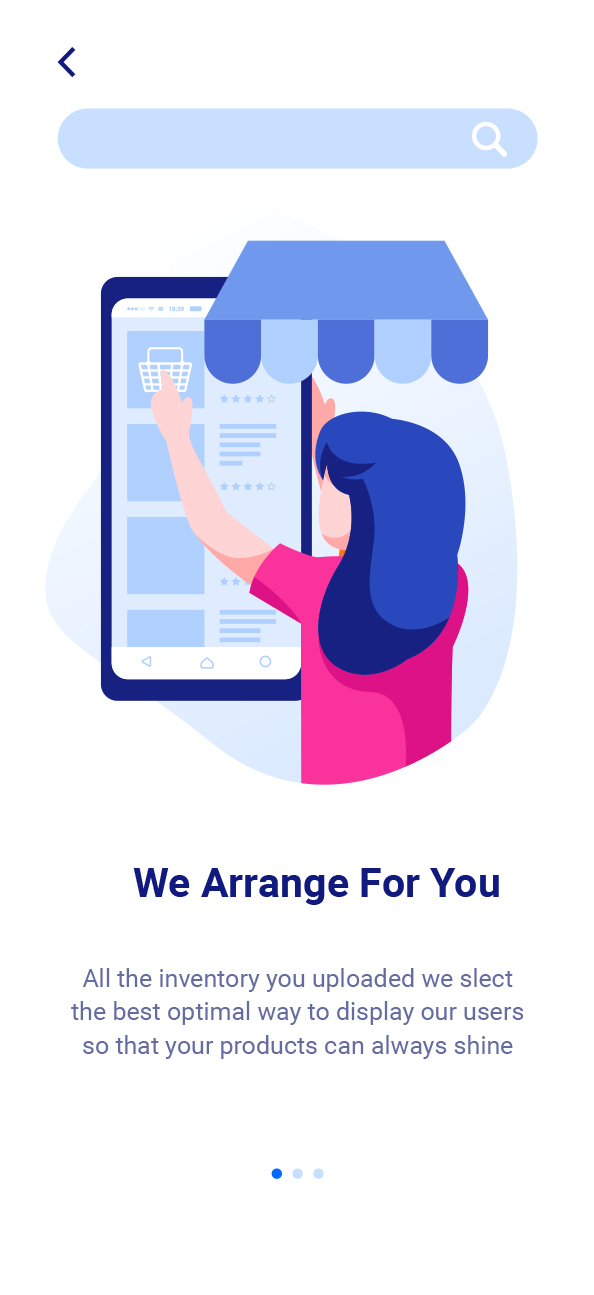EditText: (58, 109, 538, 170)
Icon: (471, 122, 507, 158), (58, 48, 77, 78)
Image: (46, 241, 518, 786)
PageIndicator: (271, 1168, 325, 1180)
Text: (72, 968, 524, 1060), (134, 868, 500, 906)
